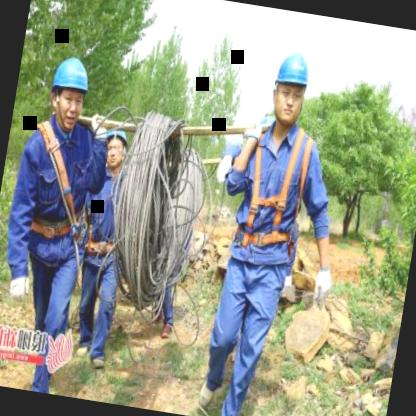helmet: (264, 43, 317, 134), (41, 48, 97, 131), (98, 120, 131, 170)
